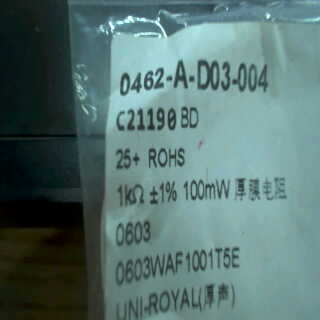1kR: (112, 176, 148, 211)
